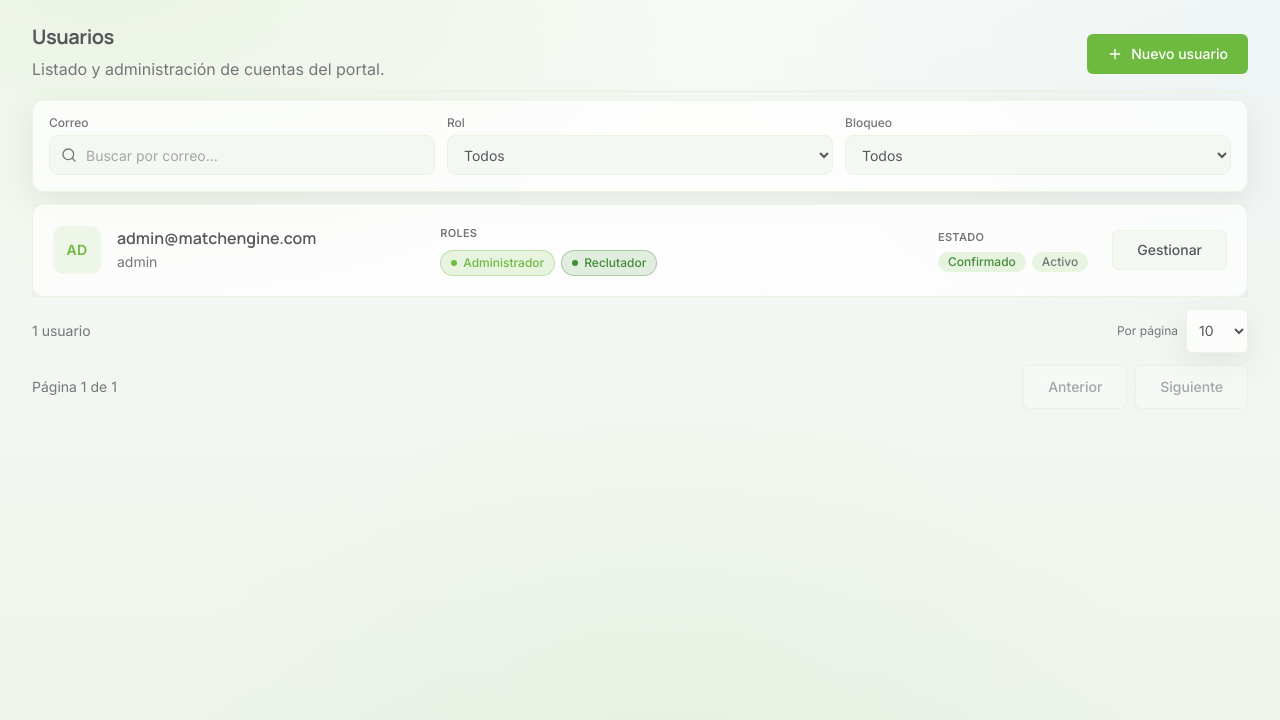
Test: AdminUsuariosContent › keeps add-role controls on a single aligned row when roles are missing
Click the button with aria-label "Gestionar usuario admin@matchengine.com" at (1170, 250), box [1112,230,1227,270]
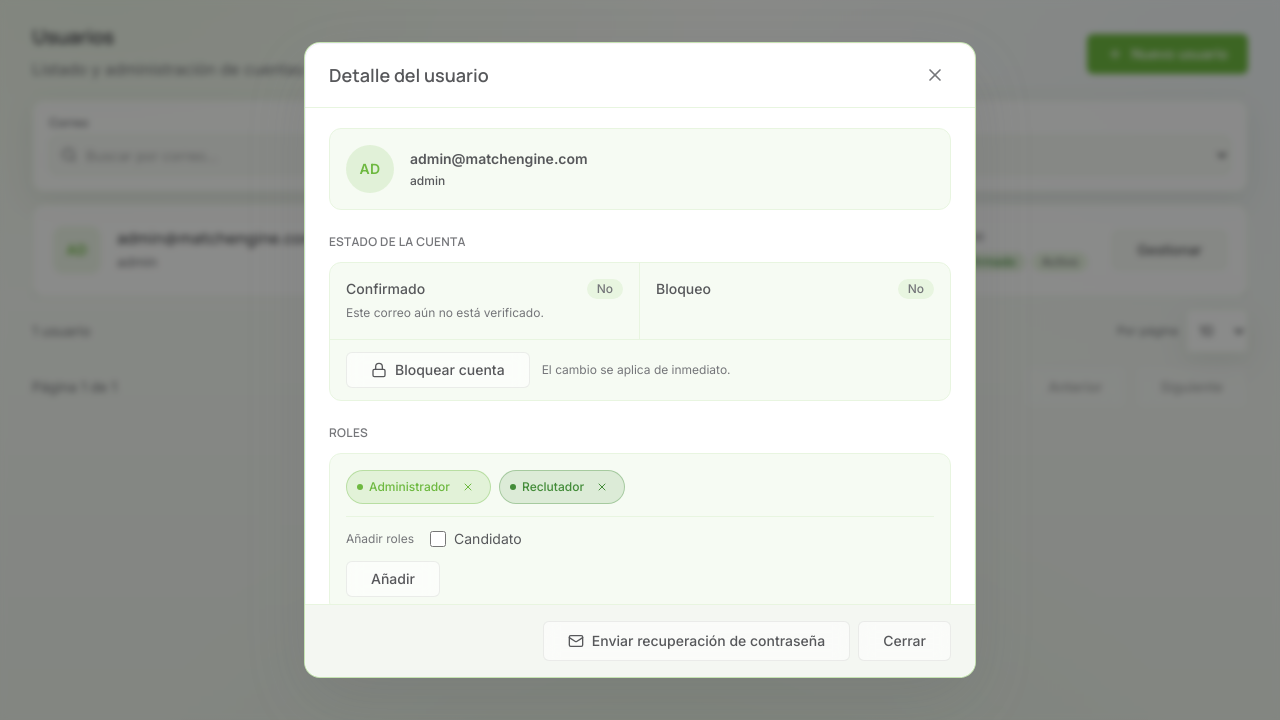
Check: the text "Este correo aún no está verificado." is shown, box [346,303,544,323]
Check: the text "Añadir roles" is shown, box [346,531,414,547]
Check: the checkbox labelled "Candidato" is shown, box [430,531,446,547]
